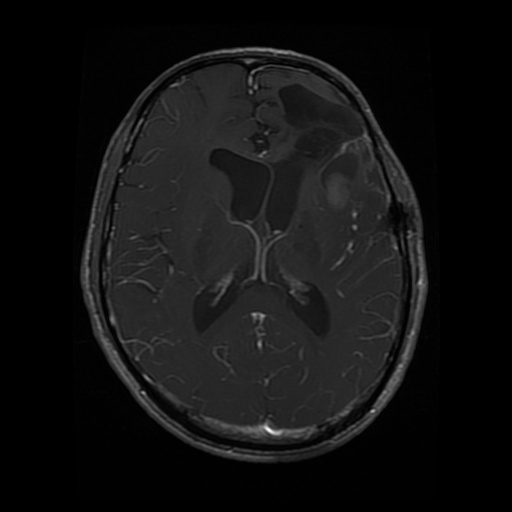glioma: (275, 81, 386, 232)
